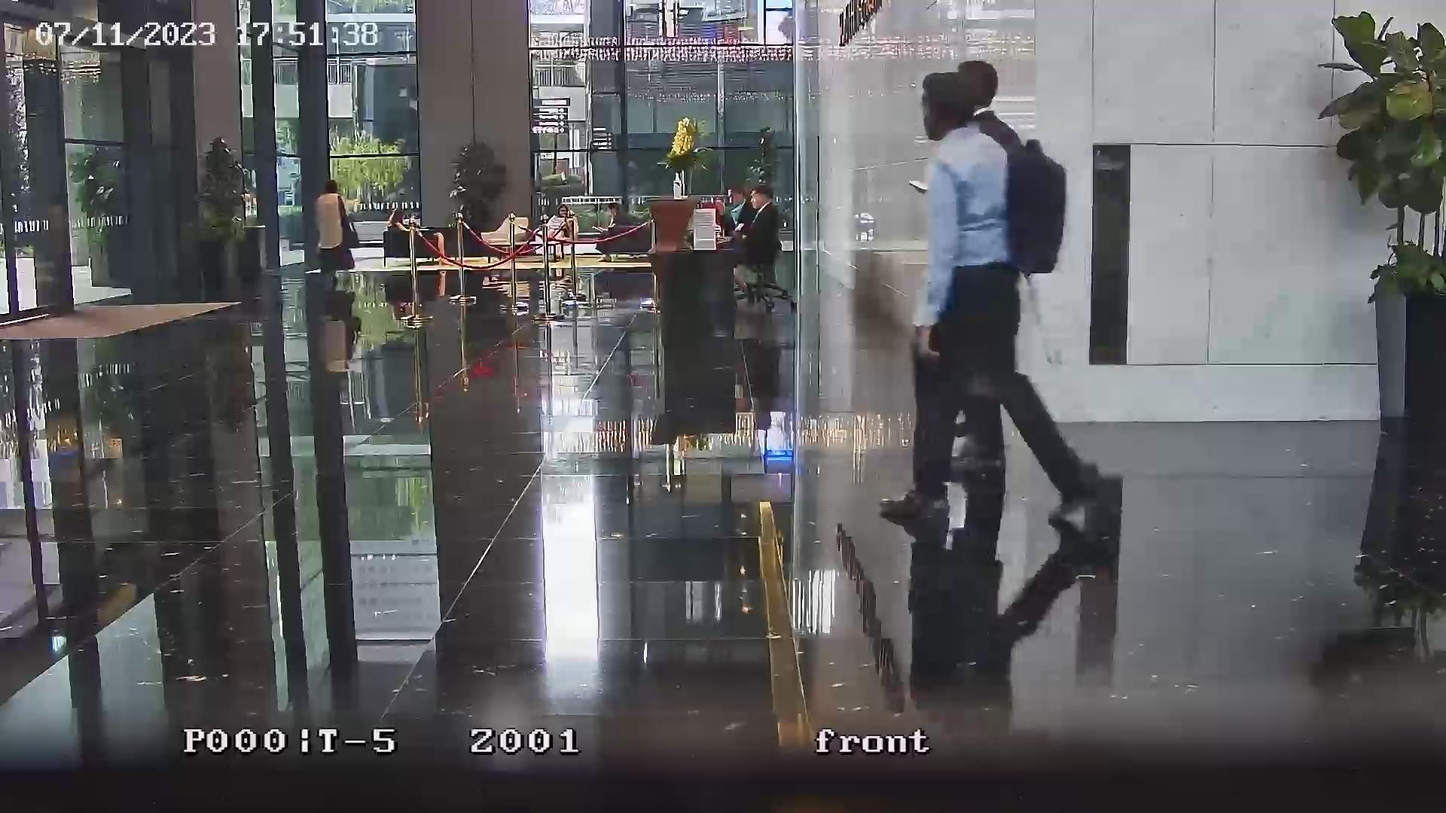person: (879, 69, 1101, 534), (948, 59, 1013, 480), (313, 181, 356, 292), (389, 208, 451, 266), (592, 203, 636, 261), (746, 184, 775, 259), (548, 205, 575, 260), (727, 184, 751, 231)
